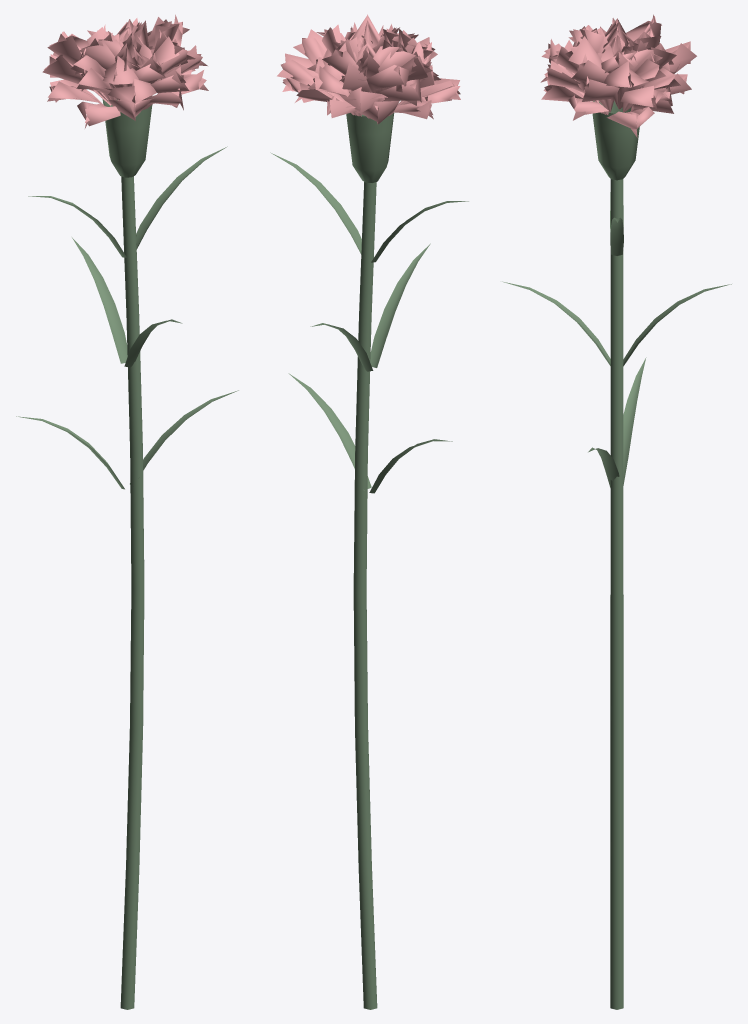
The model's file is carnation.glb.
3 renders of one model, left to right at view 1: azimuth 30°, elevation 25°; view 2: azimuth 150°, elevation 25°; view 3: azimuth 270°, elevation 25°, orthographic.
Parts seen in each view (by area): view 1: carnation; view 2: carnation; view 3: carnation.
Part boxes in pixels (bbox=[...]): carnation: bbox=[16, 14, 238, 1009]; carnation: bbox=[270, 14, 468, 1009]; carnation: bbox=[502, 14, 731, 1009].
Bounding box in the file's own units: 0.0779 × 0.3601 × 0.0779.
